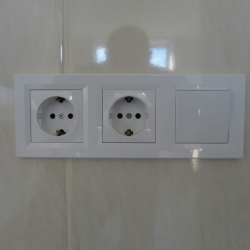raccoon: (107, 93, 149, 137), (35, 93, 76, 136)
